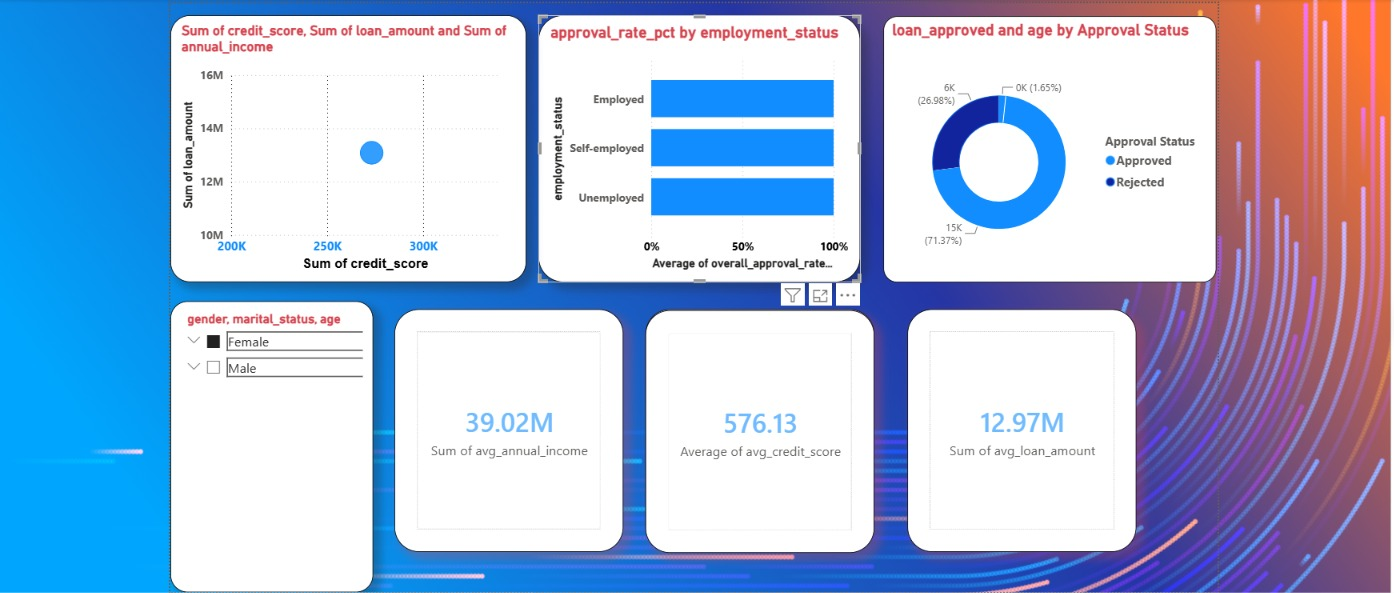

The page's visual inventory and layout, read from the dashboard file:
{"tool":"powerbi","page":{"name":"Page 1","canvas":[1280,720],"ordinal":0},"visuals":[{"type":"cardVisual","fields":{"Data":["Sum(loanapproval.avg_annual_income)"]},"box":[580.8,374.2,280,297.1],"z":0},{"type":"cardVisual","title":"AVG LOAN AMOUNT ","fields":{"Data":["Sum(loanapproval.avg_loan_amount)"]},"box":[901.2,374.2,280,297.1],"z":2000},{"type":"donutChart","title":" loan_approved and  age by Approval Status","fields":{"Category":["loanapproval.Approval Status"],"Y":["Sum(loanapproval.loan_approved)","Sum(loanapproval.age)"]},"box":[871.9,15.9,407.2,325.3],"z":3000},{"type":"hundredPercentStackedBarChart","title":"approval_rate_pct by employment_status","fields":{"Category":["loanapproval.employment_status"],"Y":["Avg(loanapproval.overall_approval_rate_pct)"]},"box":[450.1,15.1,393.8,326.6],"z":4000},{"type":"scatterChart","fields":{"X":["Sum(loanapproval.credit_score)"],"Y":["Sum(loanapproval.loan_amount)"]},"box":[0,14.7,435.3,326.5],"z":5000},{"type":"slicer","fields":{"Values":["loanapproval.gender","loanapproval.marital_status","loanapproval.age"]},"box":[0,364.4,248.2,355.8],"z":6000},{"type":"cardVisual","title":"AVG LOAN AMOUNT ","fields":{"Data":["Avg(loanapproval.avg_credit_score)"]},"box":[580.8,375.4,280,297.1],"z":6001},{"type":"cardVisual","title":"AVG LOAN AMOUNT ","fields":{"Data":["Sum(loanapproval.avg_annual_income)"]},"box":[273.9,374.2,280,297.1],"z":6002}]}

Visuals, with their boxes in screenshot pixels (x1, y1, x2, y2):
cardVisual - Sum(loanapproval.avg_annual_income): 641:303:868:544
"AVG LOAN AMOUNT " cardVisual: 901:303:1128:544
" loan_approved and  age by Approval Status" donutChart: 877:13:1207:277
"approval_rate_pct by employment_status" hundredPercentStackedBarChart: 535:12:855:277
scatterChart - Sum(loanapproval.credit_score) x Sum(loanapproval.loan_amount): 171:12:523:277
slicer - loanapproval.gender x loanapproval.marital_status: 171:295:372:584
"AVG LOAN AMOUNT " cardVisual: 641:304:868:545
"AVG LOAN AMOUNT " cardVisual: 393:303:620:544
